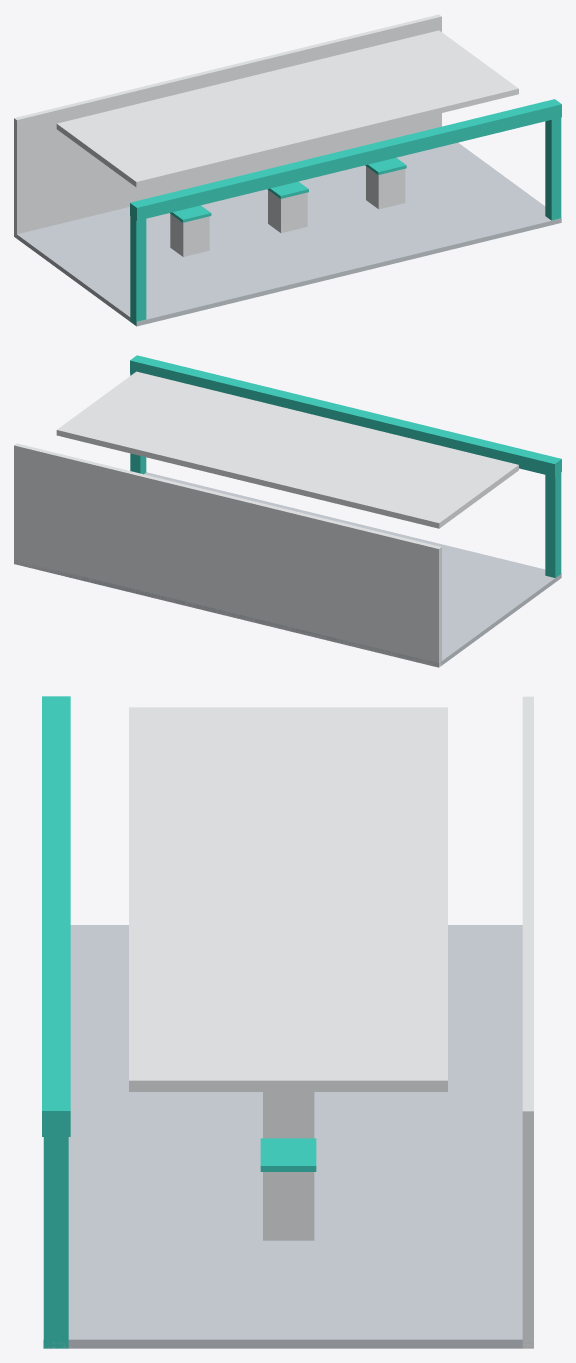
3 views of the same model, one above another, from view 1: azimuth 30°, elevation 25°; view 2: azimuth 150°, elevation 25°; view 3: azimuth 270°, elevation 25° (orthographic). The views are drawn at different scales.
Visible parts, largest first — view 1: Exhibition Booth Concept; view 2: Exhibition Booth Concept; view 3: Exhibition Booth Concept.
Part boxes in pixels (x1,y1,x2,y2): Exhibition Booth Concept: (14, 14, 561, 326); Exhibition Booth Concept: (14, 355, 561, 667); Exhibition Booth Concept: (42, 696, 533, 1348).
Bounding box in the file's own units: 12 × 3.34 × 6.02.
